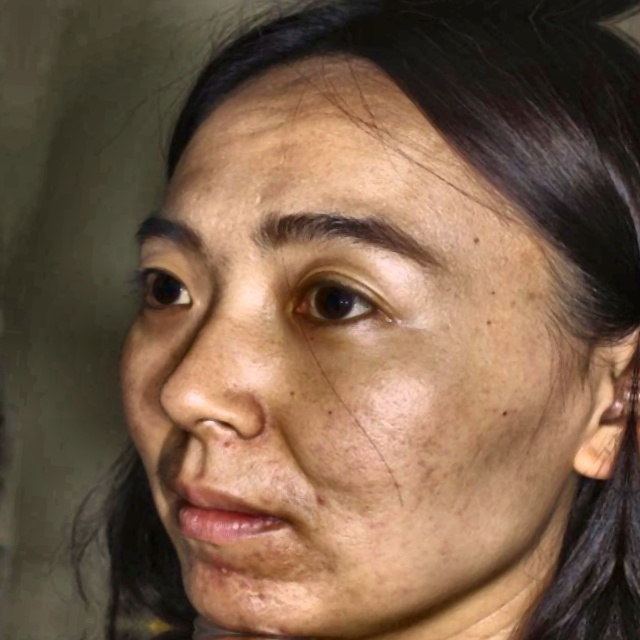comedone: (208, 553, 242, 591)
